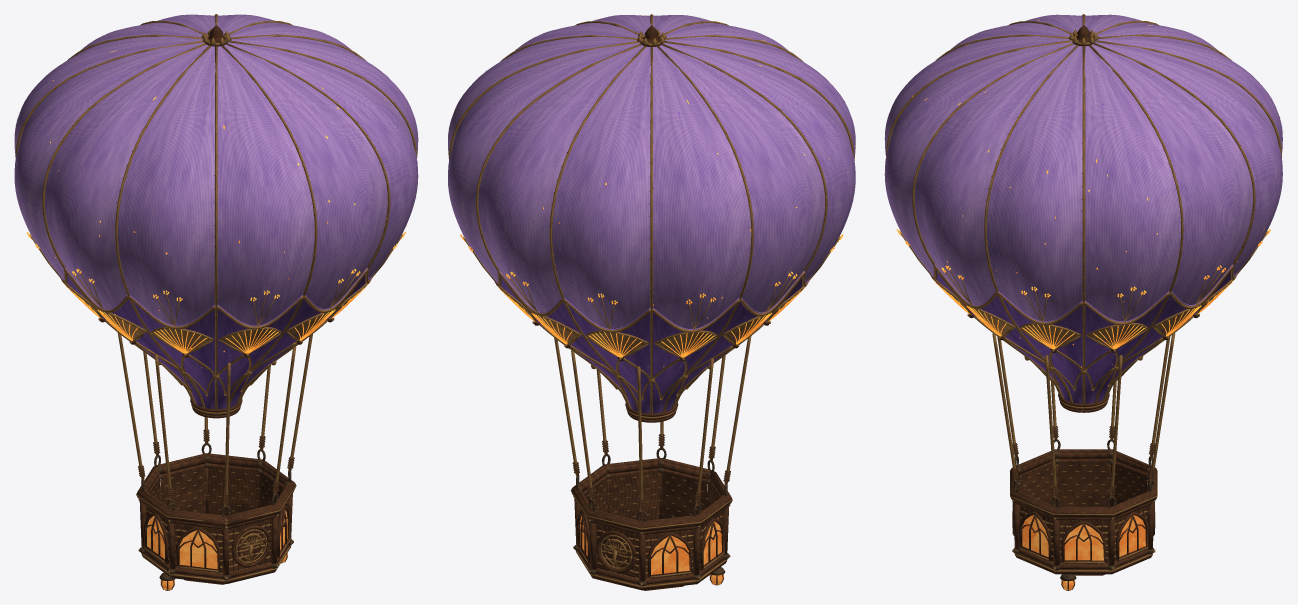
Rendered from spore_silk_balloon.glb.
The picture shows the model from 3 angles, left to right: view 1: azimuth 30°, elevation 25°; view 2: azimuth 150°, elevation 25°; view 3: azimuth 270°, elevation 25°; orthographic projection. The views are drawn at different scales.
Parts seen in each view (by area): view 1: spore_silk_balloon_silk, spore_silk_balloon_rope, spore_silk_balloon_wood, spore_silk_balloon_silk_dark, spore_silk_balloon_gill, spore_silk_balloon_window, spore_silk_balloon_metal, spore_silk_balloon_cap_light; view 2: spore_silk_balloon_silk, spore_silk_balloon_rope, spore_silk_balloon_wood, spore_silk_balloon_silk_dark, spore_silk_balloon_gill, spore_silk_balloon_window, spore_silk_balloon_metal, spore_silk_balloon_cap_light; view 3: spore_silk_balloon_silk, spore_silk_balloon_rope, spore_silk_balloon_wood, spore_silk_balloon_silk_dark, spore_silk_balloon_window, spore_silk_balloon_gill, spore_silk_balloon_metal, spore_silk_balloon_cap_light.
Boxes of the visible parts, x1=… form: spore_silk_balloon_silk: x1=14, y1=14, x2=418, y2=326; spore_silk_balloon_rope: x1=15, y1=14, x2=416, y2=581; spore_silk_balloon_wood: x1=100, y1=25, x2=332, y2=590; spore_silk_balloon_silk_dark: x1=67, y1=275, x2=365, y2=408; spore_silk_balloon_gill: x1=16, y1=50, x2=417, y2=367; spore_silk_balloon_window: x1=147, y1=510, x2=287, y2=590; spore_silk_balloon_metal: x1=139, y1=443, x2=293, y2=580; spore_silk_balloon_cap_light: x1=27, y1=16, x2=418, y2=368; spore_silk_balloon_silk: x1=448, y1=15, x2=855, y2=328; spore_silk_balloon_rope: x1=449, y1=14, x2=854, y2=587; spore_silk_balloon_wood: x1=534, y1=25, x2=769, y2=590; spore_silk_balloon_silk_dark: x1=501, y1=277, x2=802, y2=413; spore_silk_balloon_gill: x1=455, y1=15, x2=855, y2=366; spore_silk_balloon_window: x1=580, y1=515, x2=724, y2=584; spore_silk_balloon_metal: x1=573, y1=448, x2=729, y2=585; spore_silk_balloon_cap_light: x1=449, y1=19, x2=849, y2=373; spore_silk_balloon_silk: x1=884, y1=14, x2=1282, y2=321; spore_silk_balloon_rope: x1=886, y1=14, x2=1281, y2=571; spore_silk_balloon_wood: x1=969, y1=25, x2=1198, y2=590; spore_silk_balloon_silk_dark: x1=936, y1=271, x2=1231, y2=403; spore_silk_balloon_window: x1=1022, y1=515, x2=1145, y2=590; spore_silk_balloon_gill: x1=886, y1=19, x2=1270, y2=367; spore_silk_balloon_metal: x1=1013, y1=439, x2=1154, y2=581; spore_silk_balloon_cap_light: x1=891, y1=15, x2=1282, y2=358.
Size of the model in its own units: 16.61 by 25 by 16.62.
Materials: 8 (8 with a texture image).
